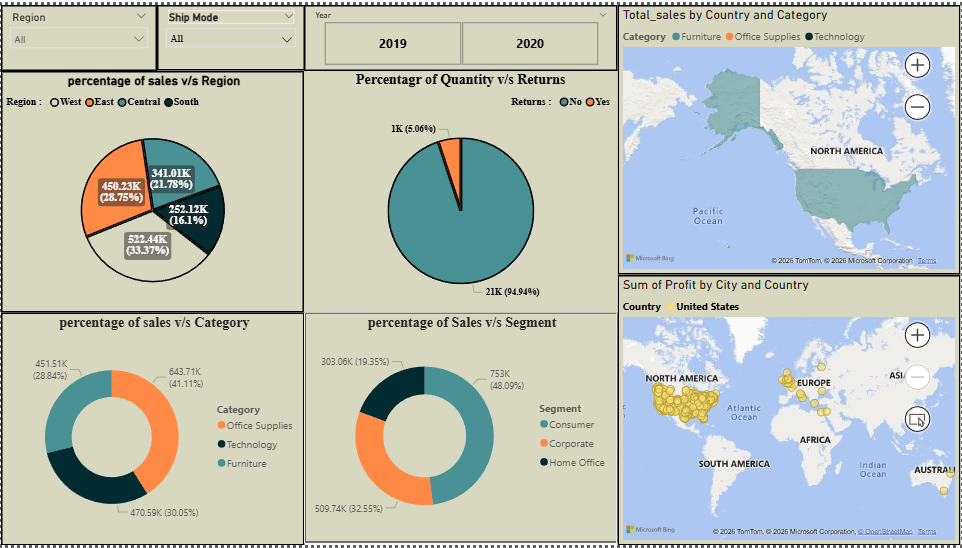

What the dashboard file says about the page in this screenshot:
{"tool":"powerbi","page":{"name":"4","canvas":[1280,720],"ordinal":3},"visuals":[{"type":"map","fields":{"Category":["Sheet1.City"],"Series":["Sheet1.Country"],"Size":["Sum(Sheet1.Profit)"]},"box":[822.1,359.1,457.3,360.9],"z":0},{"type":"filledMap","fields":{"Category":["Sheet1.Country"],"Series":["Sheet1.Category"]},"box":[822.1,0,457.3,359.1],"z":1000},{"type":"donutChart","title":"percentage of sales v/s Category","fields":{"Category":["Sheet1.Category"],"Y":["Sheet1.Total_sales"]},"box":[0,409.7,404.8,310.9],"z":2000},{"type":"pieChart","title":"percentage of sales v/s Region ","fields":{"Y":["Sheet1.Total_sales"],"Category":["Sheet1.Region"]},"box":[0,88,404,322],"z":3000},{"type":"donutChart","title":"percentage of Sales v/s Segment","fields":{"Category":["Sheet1.Segment"],"Y":["Sum(Sheet1.Sales)"]},"box":[404.8,409.7,417.8,307.7],"z":4000},{"type":"pieChart","title":"Percentagr of Quantity v/s Returns","fields":{"Category":["Sheet1.Returns"],"Y":["Sheet1.Total_Quantity"]},"box":[404.8,87.4,417.8,322.2],"z":5000},{"type":"slicer","fields":{"Values":["Sheet1.Region"]},"box":[0,0,208,88],"z":6000},{"type":"slicer","fields":{"Values":["Sheet1.Ship Mode"]},"box":[207.3,0,197.5,87.4],"z":7000},{"type":"slicer","fields":{"Values":["Sheet1.Year"]},"box":[404,0,418,88],"z":8000}]}

Visuals, with their boxes in screenshot pixels (x1, y1, x2, y2), scaled from the page's 1280x720 canvas onto the 962x548 screenshot:
map - Sheet1.City x Sheet1.Country: 618/273/961/547
filledMap - Sheet1.Country x Sheet1.Category: 618/0/961/273
"percentage of sales v/s Category" donutChart: 0/312/304/547
"percentage of sales v/s Region " pieChart: 0/67/304/312
"percentage of Sales v/s Segment" donutChart: 304/312/618/546
"Percentagr of Quantity v/s Returns" pieChart: 304/67/618/312
slicer - Sheet1.Region: 0/0/156/67
slicer - Sheet1.Ship Mode: 156/0/304/67
slicer - Sheet1.Year: 304/0/618/67
